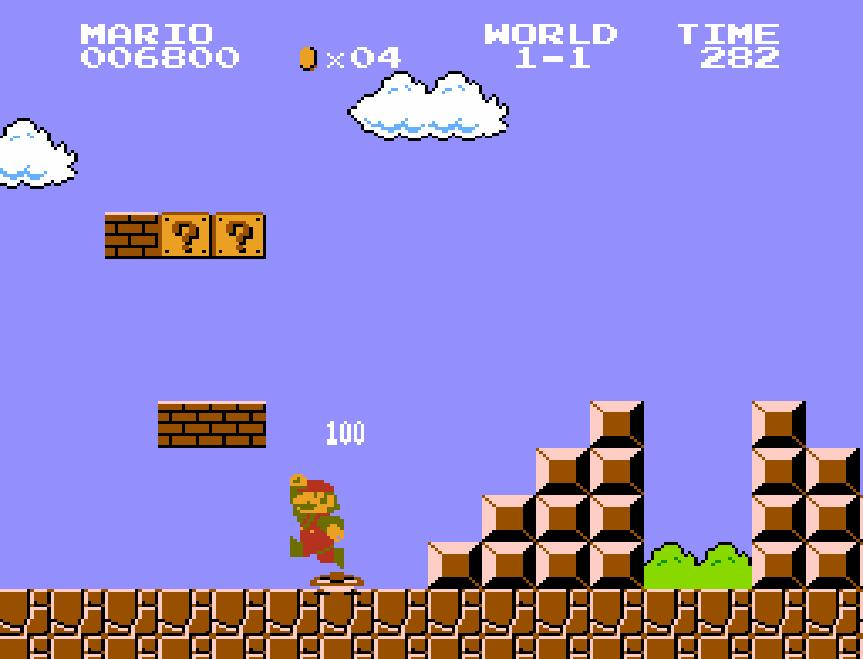big_mario: (288, 472, 346, 570)
